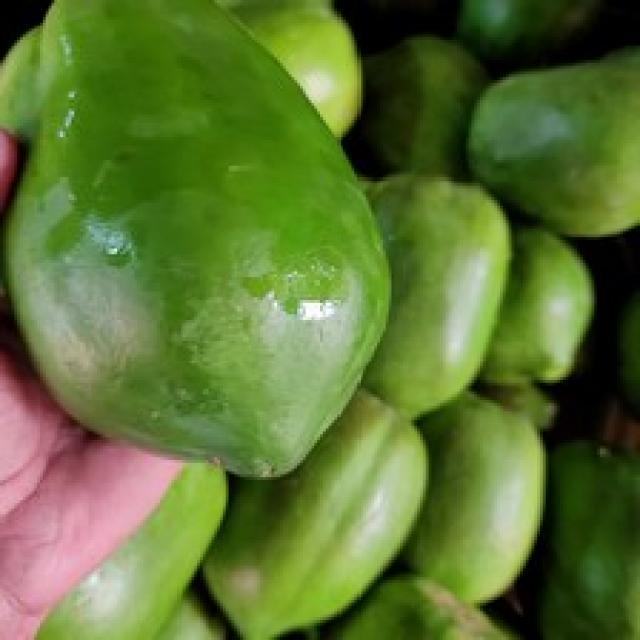Pepaya unrippen: (16, 6, 414, 498)
